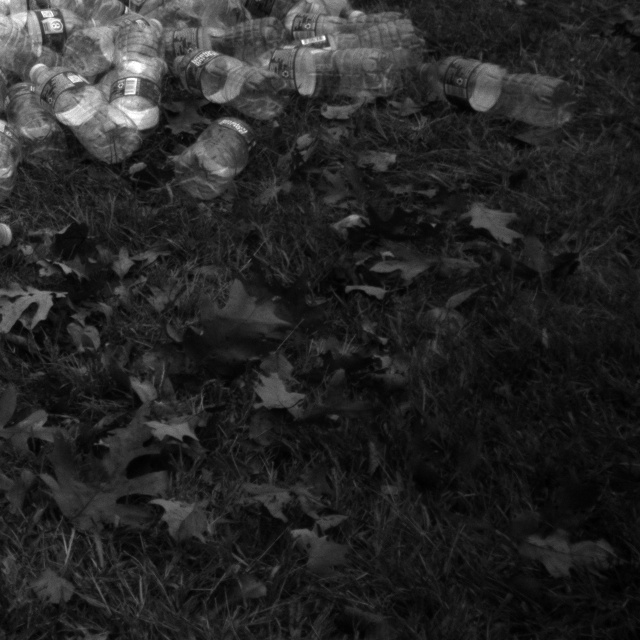bottle: (414, 51, 579, 130), (30, 62, 144, 168), (165, 111, 263, 205), (252, 40, 392, 99), (169, 49, 288, 117), (264, 14, 416, 66), (102, 17, 162, 141), (0, 5, 98, 64)
